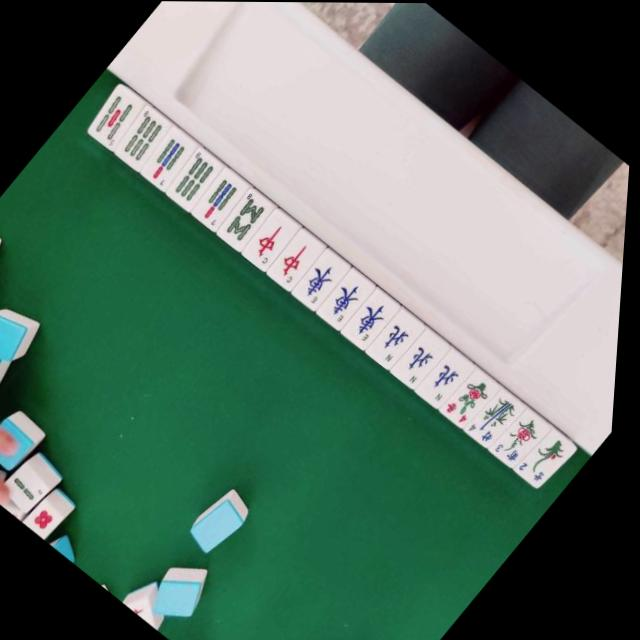bf2: (521, 426, 579, 486)
bf3: (495, 405, 557, 468)
bf4: (469, 384, 532, 449)
bs4: (444, 366, 505, 429)
hdr: (268, 226, 331, 290), (244, 209, 303, 269)
hwe: (343, 285, 407, 350), (293, 246, 356, 310), (319, 265, 381, 330)
hwn: (368, 305, 431, 370), (419, 346, 481, 409), (395, 326, 456, 389)
sb5: (88, 87, 148, 148)
sb6: (167, 147, 228, 211), (113, 106, 171, 168)
sb7: (192, 167, 253, 231), (141, 127, 201, 189)
sb8: (218, 187, 279, 250)
